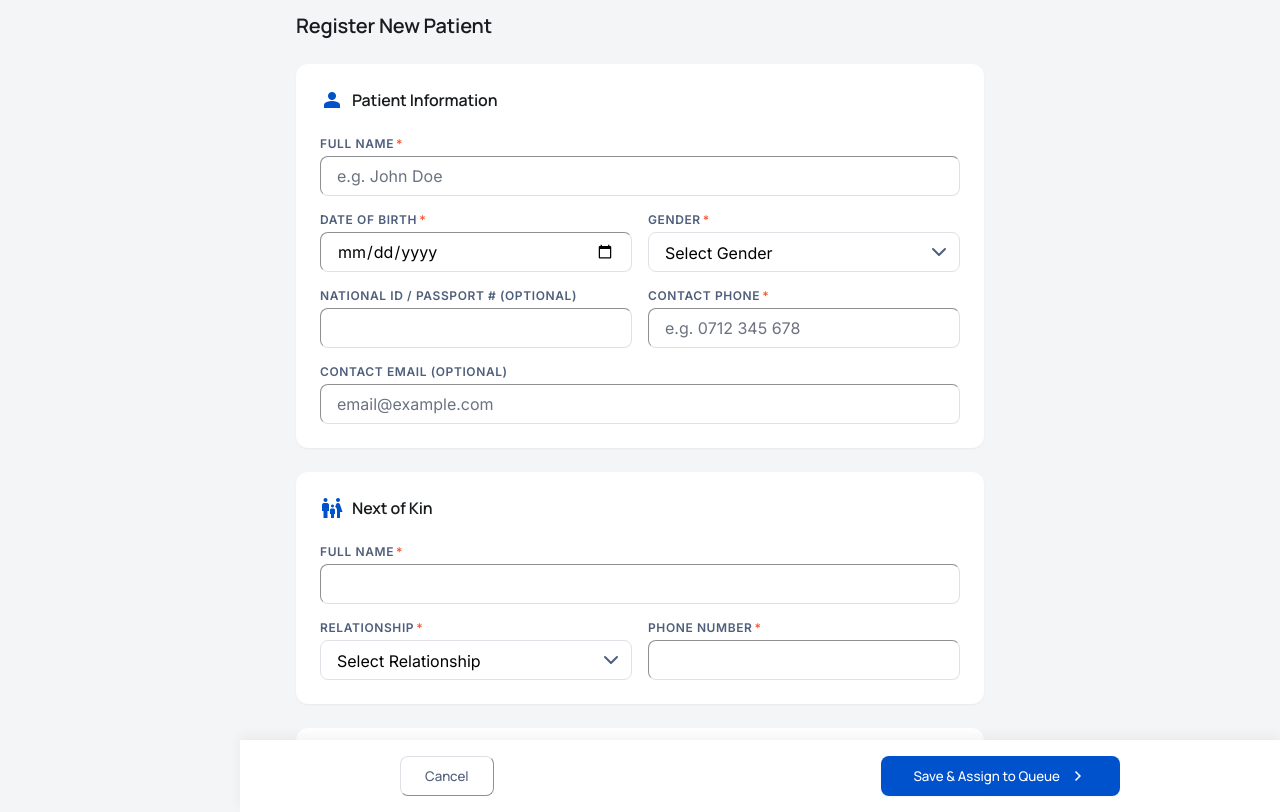
Test: PatientRegistrationPage › displays validation errors on submitting empty fields
Click the button "Save & Assign to Queue": (1001,776) [882,756,1120,796]
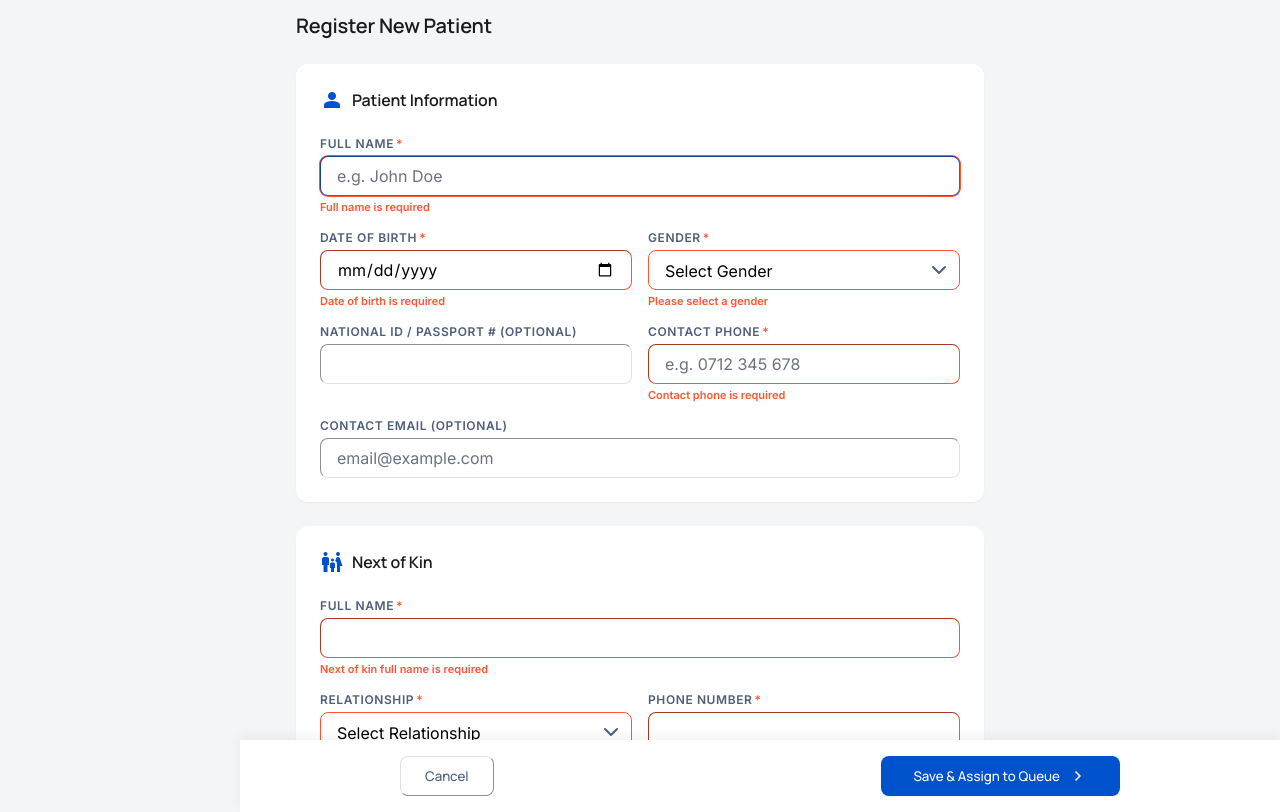
Now the text "Full name is required" is shown, box [320,200,430,214]
Now the text "Contact phone is required" is shown, box [648,388,786,402]
Now the text "Next of kin full name is required" is shown, box [320,662,488,676]
